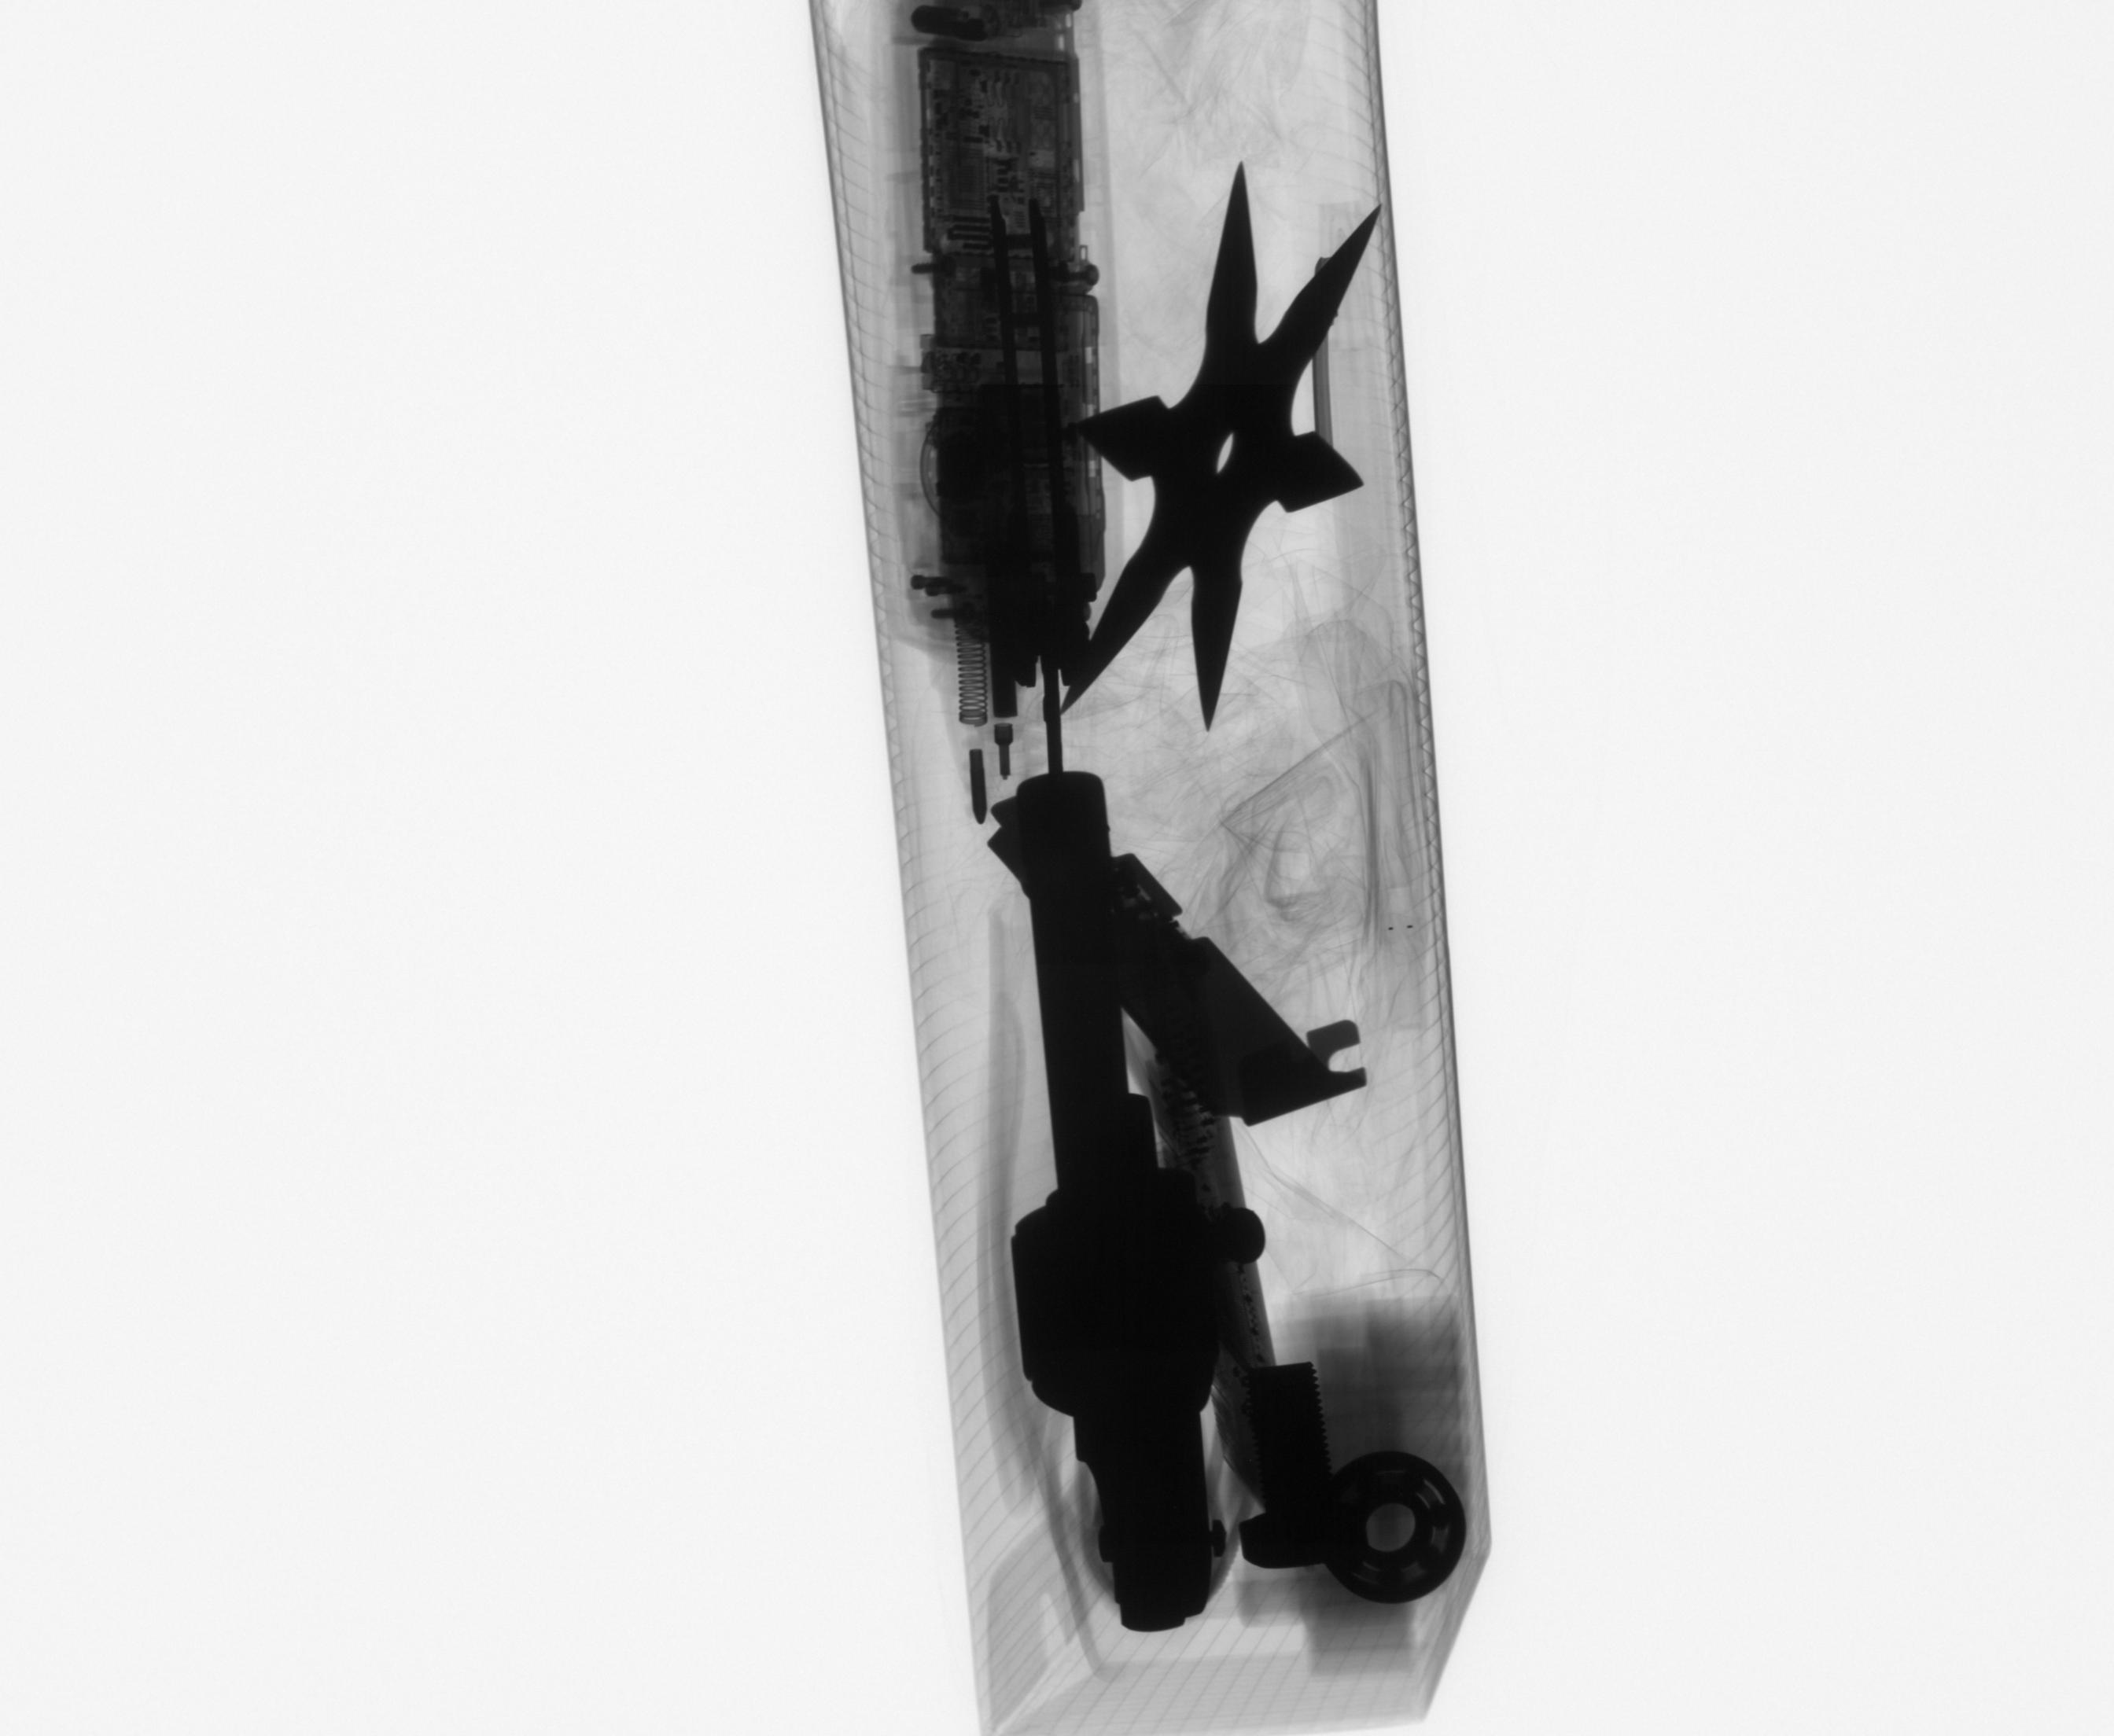Handgun: (1005, 764, 1247, 1638)
Shuriken: (1048, 153, 1393, 744)
